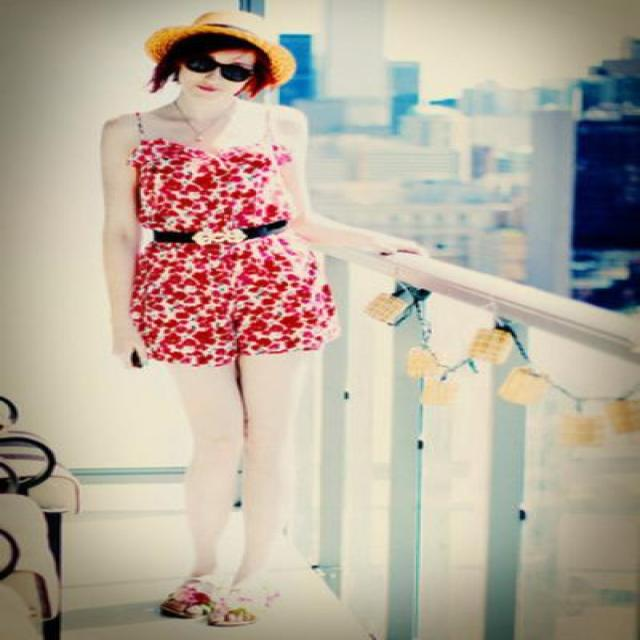dress: (120, 131, 344, 367)
hat: (146, 13, 294, 88)
shoe: (160, 561, 278, 618)
sunglass: (195, 57, 245, 80)
